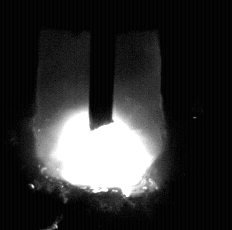arame: (90, 0, 114, 129)
poca: (34, 0, 166, 230)
